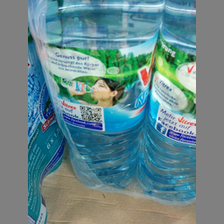water: (27, 1, 164, 188), (140, 1, 196, 200)
